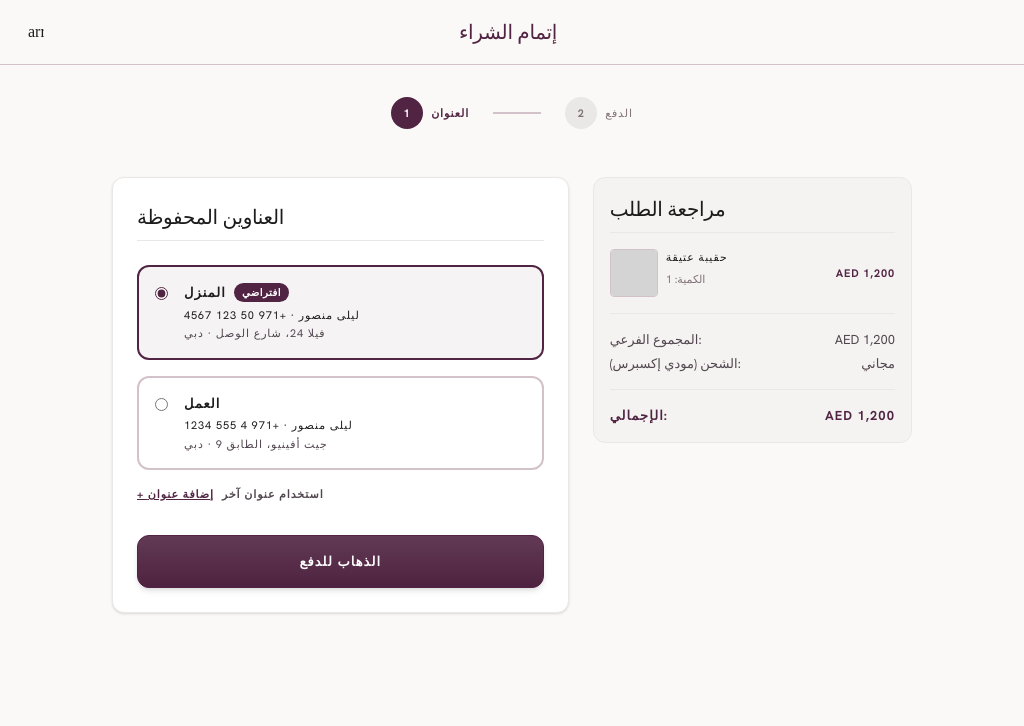
CheckoutFlowView — address step (C-13) › Arabic: opens the new-address form with Arabic labels
What coordinates should you click on to do the following:
click the button "+ إضافة عنوان"
I would click on:
 (175, 494)
Its box is [137,486,214,502].
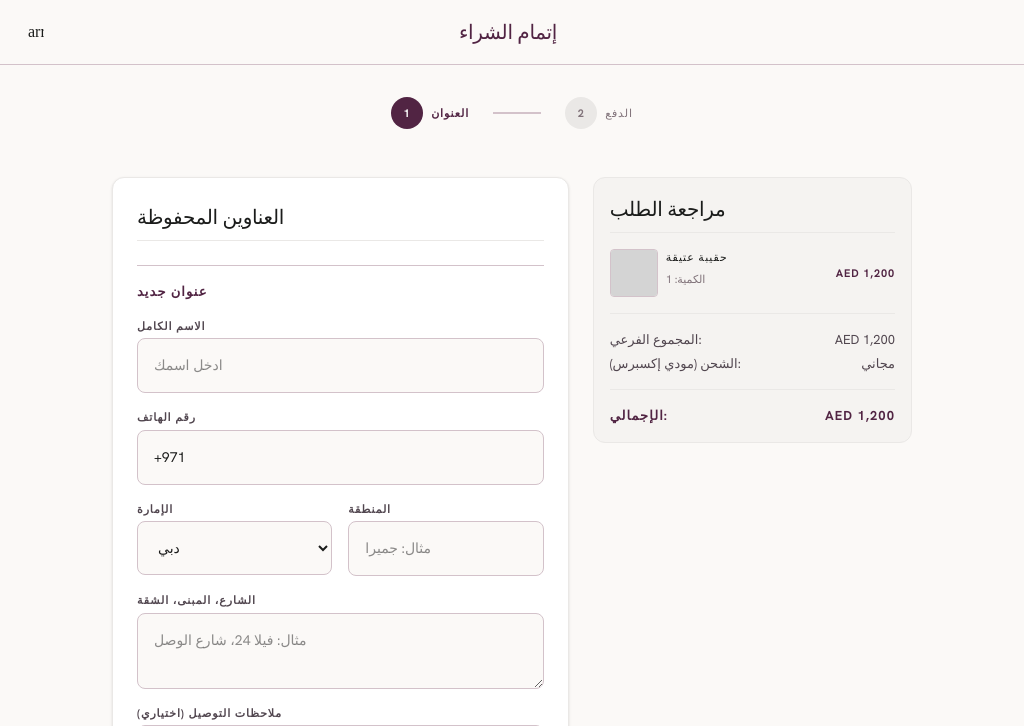
Expected: the heading "عنوان جديد" is shown, [137,281,208,301]
Expected: the text "الاسم الكامل" is shown, [137,318,206,332]
